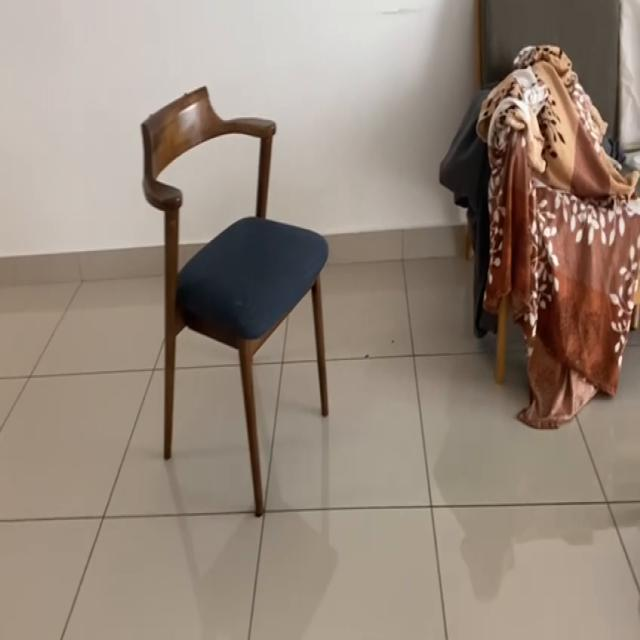Chair: (119, 73, 353, 510)
